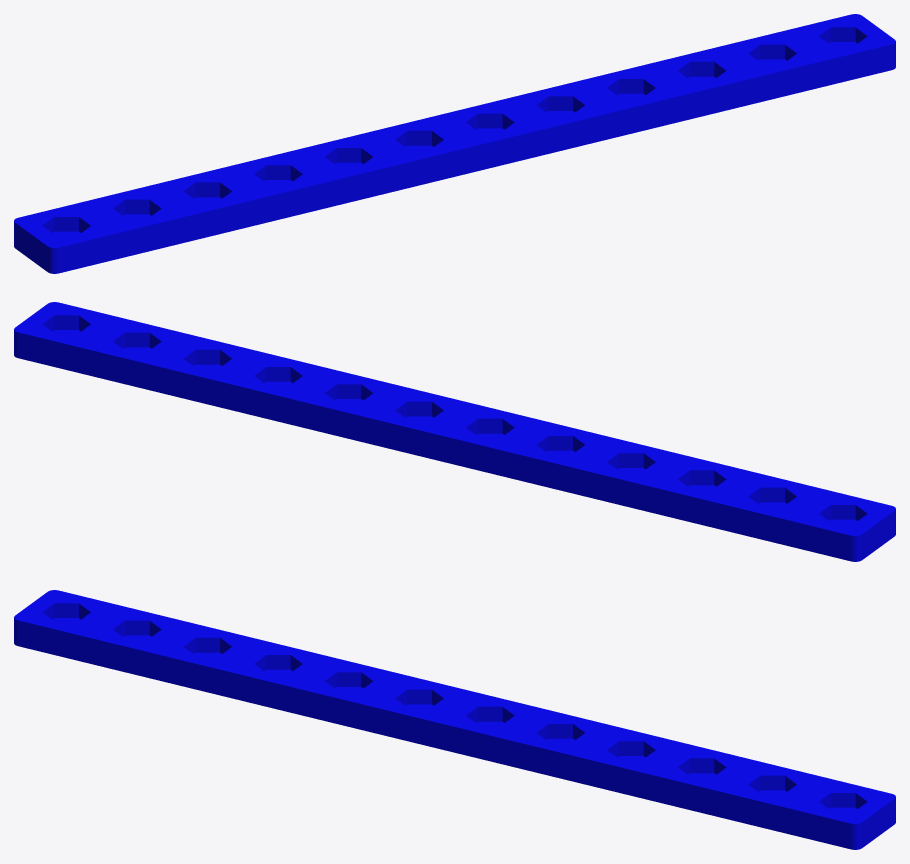
The model's file is S12_blue.glb.
3 views of the same model, one above another, from view 1: azimuth 30°, elevation 25°; view 2: azimuth 150°, elevation 25°; view 3: azimuth 330°, elevation 25° (orthographic).
Parts seen in each view (by area): view 1: S12; view 2: S12; view 3: S12.
Part boxes in pixels (left/top/right/bottom): S12: left=14, top=14, right=895, bottom=273; S12: left=14, top=302, right=895, bottom=561; S12: left=14, top=590, right=895, bottom=849.
Size of the model in its own units: 0.12 by 0.0035 by 0.01.
